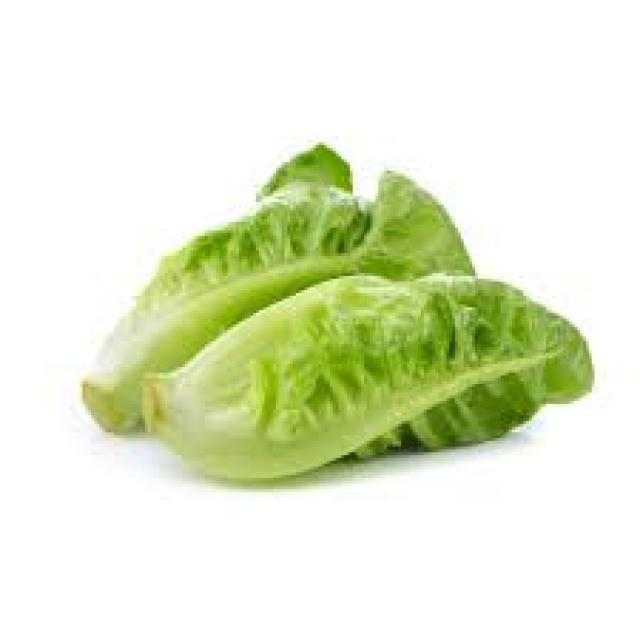Lettuce: (59, 138, 464, 428), (167, 275, 605, 487)
